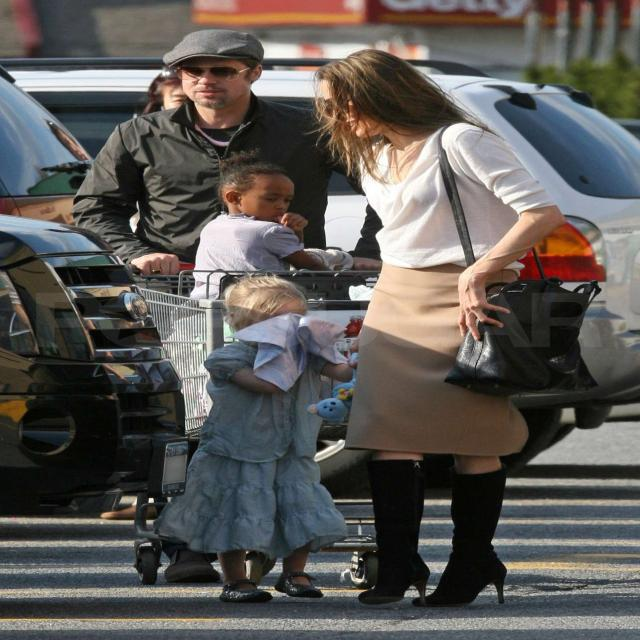body: (71, 27, 387, 588), (299, 44, 608, 616), (154, 269, 372, 607), (186, 146, 346, 312), (130, 66, 188, 114)
